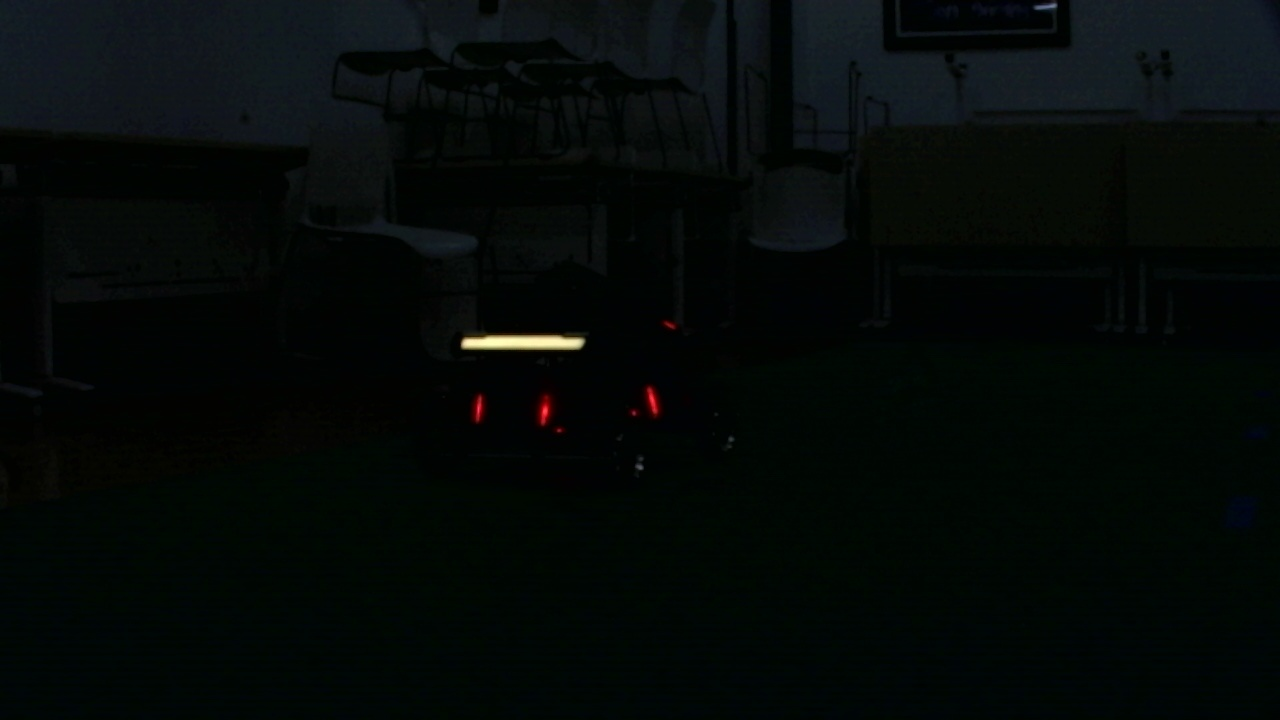lamp: (644, 382, 658, 413), (538, 393, 549, 425), (477, 393, 487, 424)
pair1: (476, 392, 551, 426)
